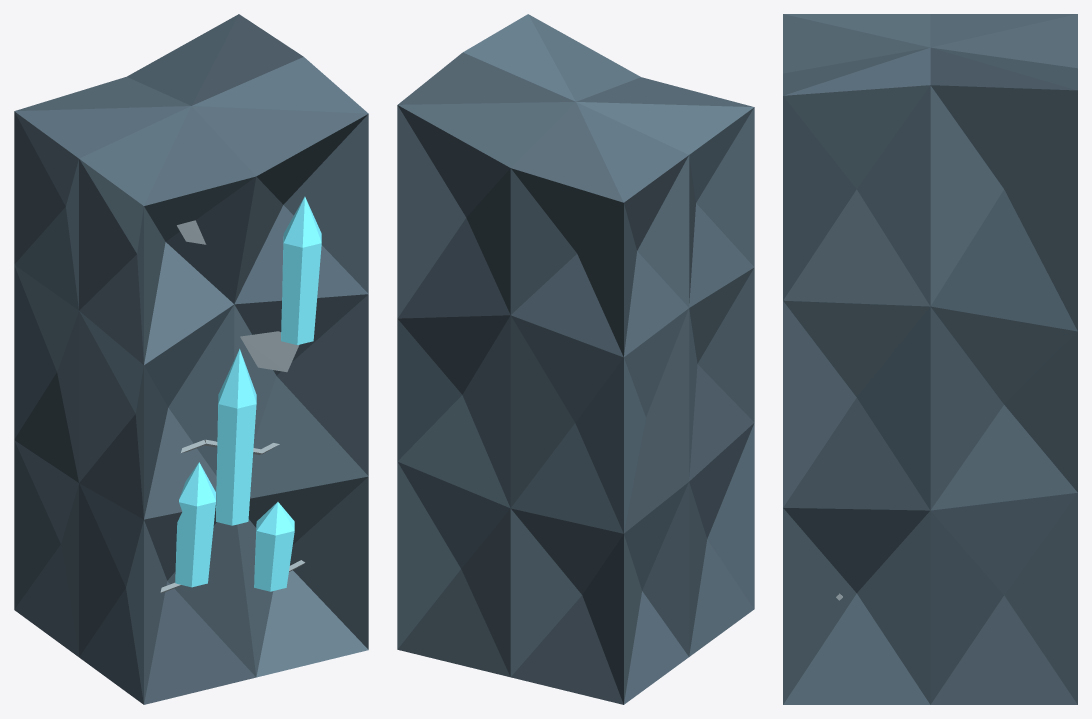
The model's file is frost_wall_crystal.glb.
3 views of the same model, side by side, from view 1: azimuth 30°, elevation 25°; view 2: azimuth 150°, elevation 25°; view 3: azimuth 270°, elevation 25° (orthographic). The views are drawn at different scales.
Visible parts, largest first — view 1: geometry, crystals; view 2: geometry; view 3: geometry.
Part boxes in pixels (x1=…): geometry: x1=14, y1=14, x2=368, y2=704; crystals: x1=175, y1=196, x2=321, y2=591; geometry: x1=397, y1=14, x2=754, y2=704; geometry: x1=783, y1=14, x2=1077, y2=704.
Size of the model in its own units: 1 by 2.32 by 1.
